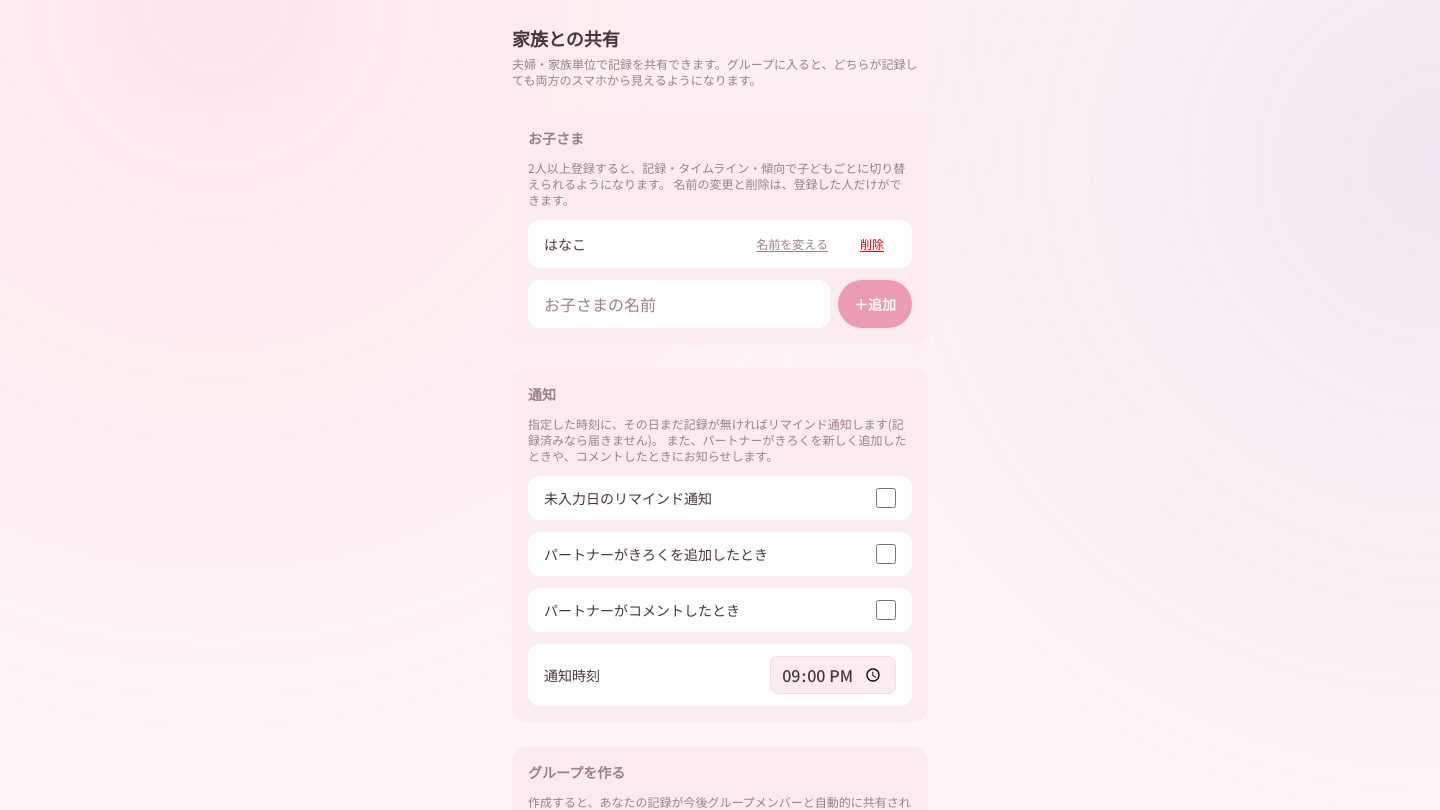
it: GroupPage: お子さま › キャンセルすると編集内容を捨てて元の表示に戻る
Expected: the text "はなこ" is shown, [544,234,586,254]
Click the button "名前を変える" at (792, 244), box [744,232,840,256]
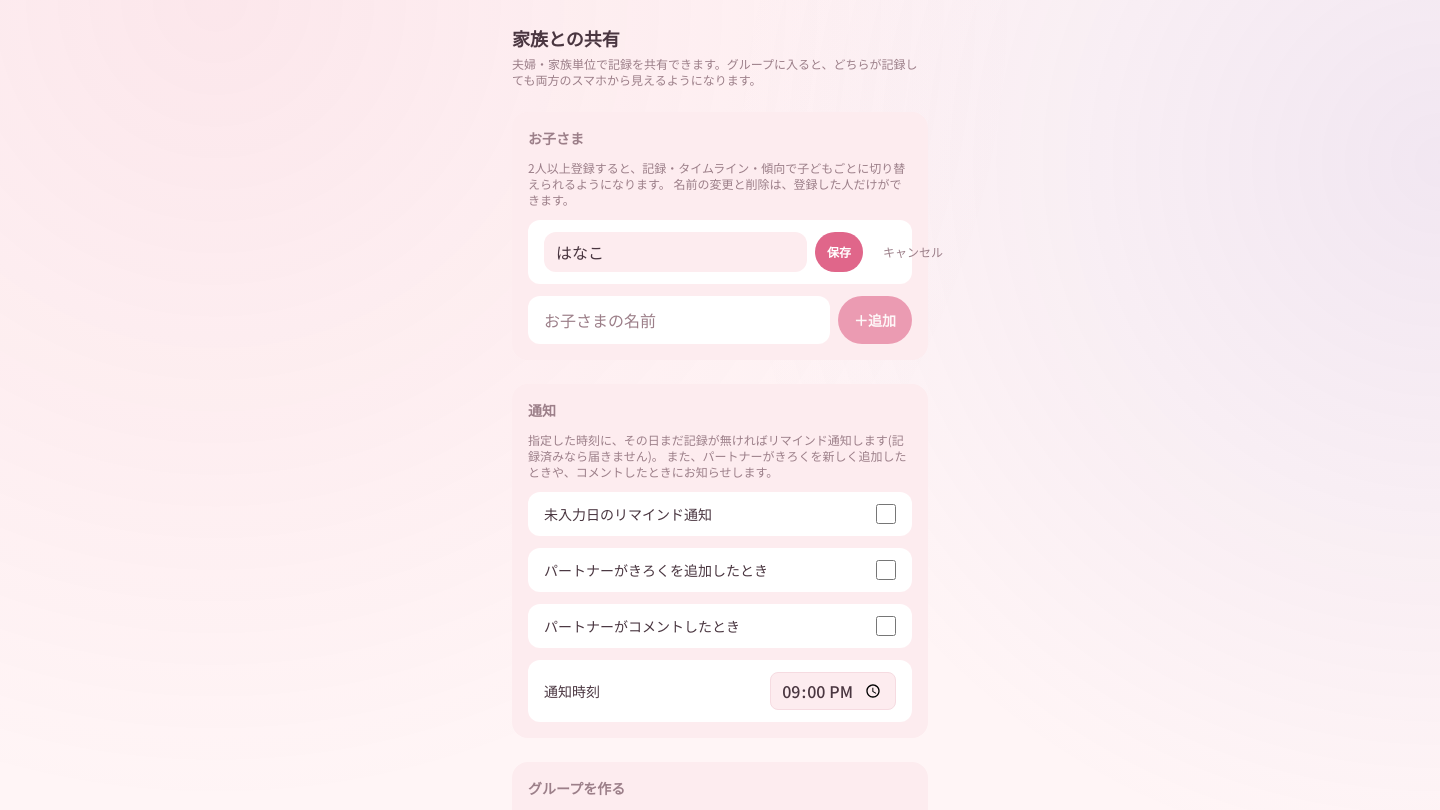
Replace the text in the field named "お子さまの名前" with "花子" at (676, 252), box [544,232,807,272]
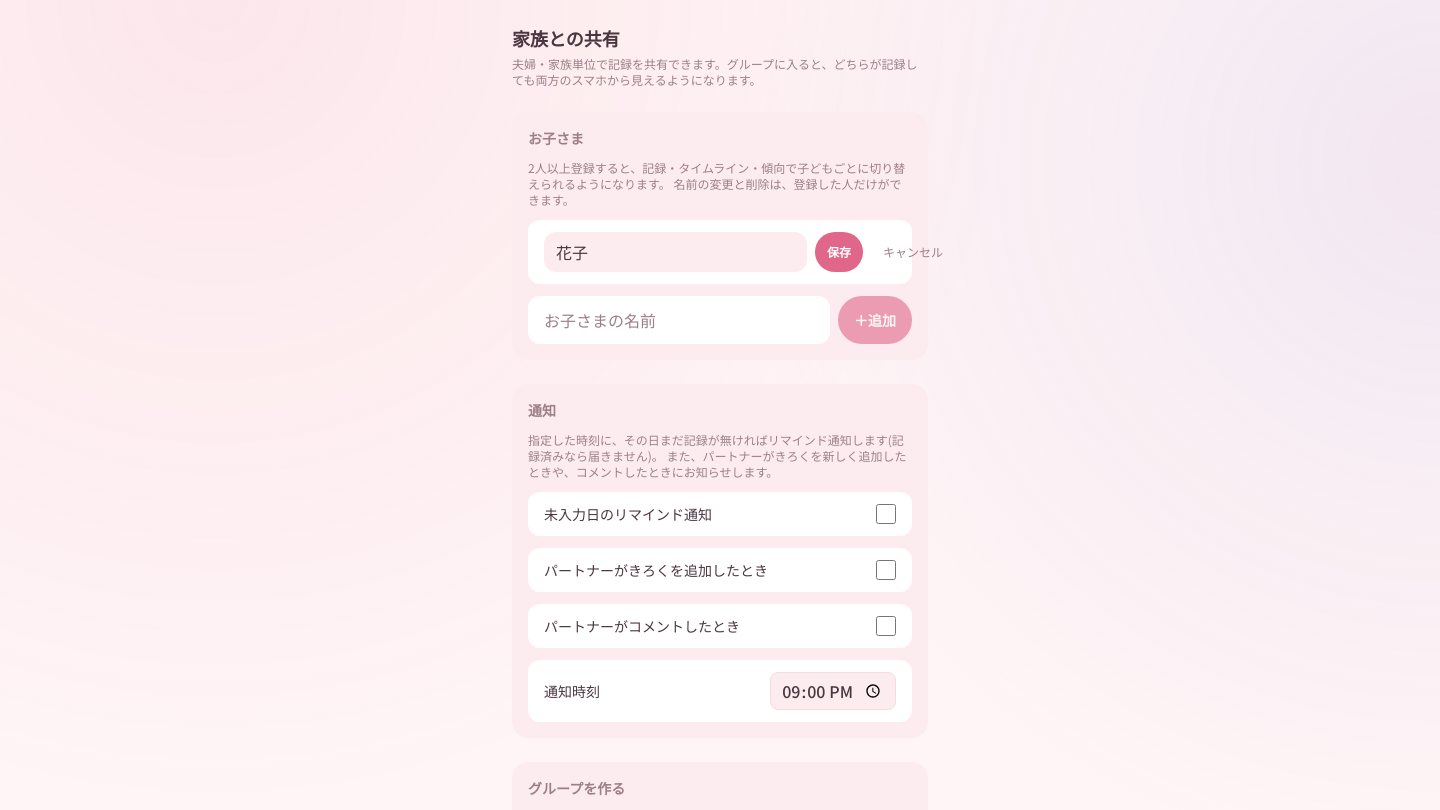
Click the button "キャンセル" at (913, 252), box [871,232,955,272]
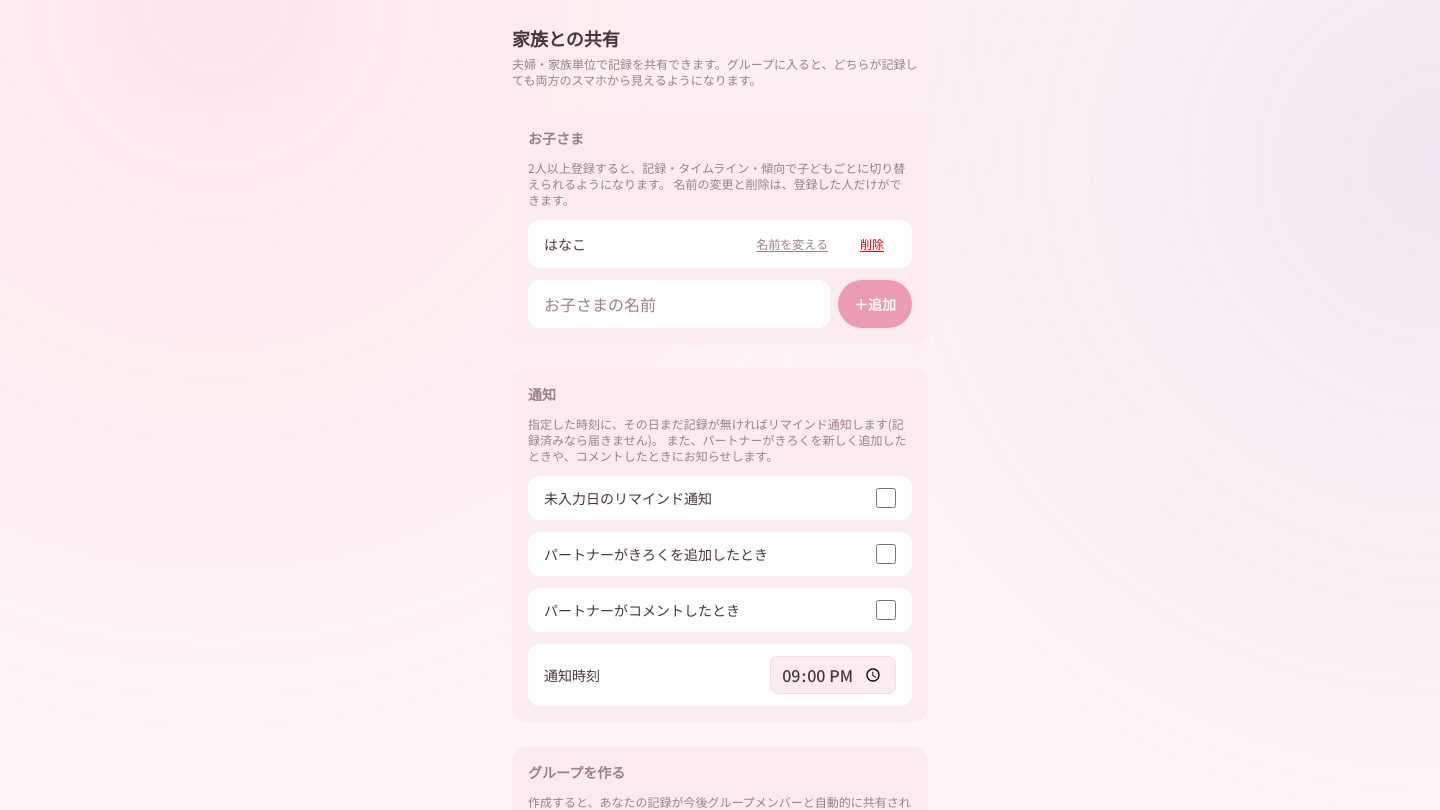
Expected: the text "はなこ" is shown, [544,234,586,254]
